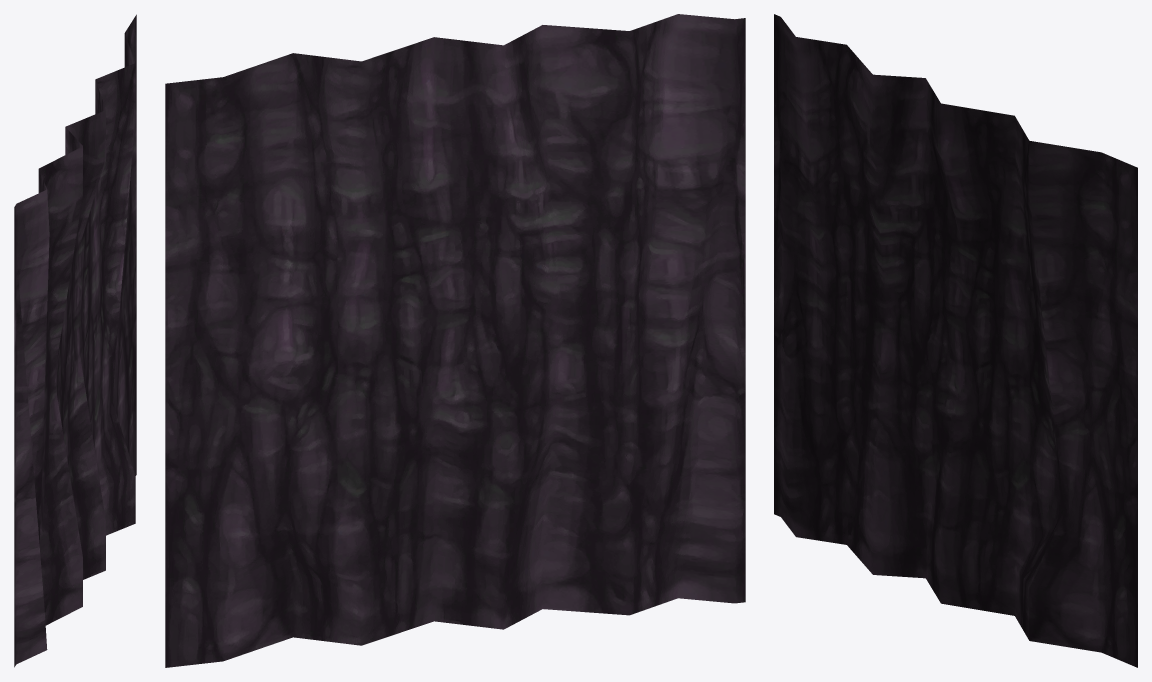
File: cave_wall_diagonal_01.fbx
3 renders of one model, left to right at view 1: azimuth 30°, elevation 25°; view 2: azimuth 150°, elevation 25°; view 3: azimuth 270°, elevation 25°, orthographic. The views are drawn at different scales.
Visible parts, largest first — view 1: cave_tileset/wall01_mat; view 2: cave_tileset/wall01_mat; view 3: cave_tileset/wall01_mat.
Part boxes in pixels (x1=…): cave_tileset/wall01_mat: x1=14, y1=14, x2=136, y2=667; cave_tileset/wall01_mat: x1=165, y1=14, x2=745, y2=667; cave_tileset/wall01_mat: x1=774, y1=14, x2=1137, y2=667.
Size of the model in its own units: 3.62 by 5.5 by 3.62.
